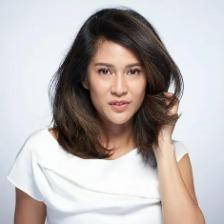Non hijab: (46, 8, 184, 163)
